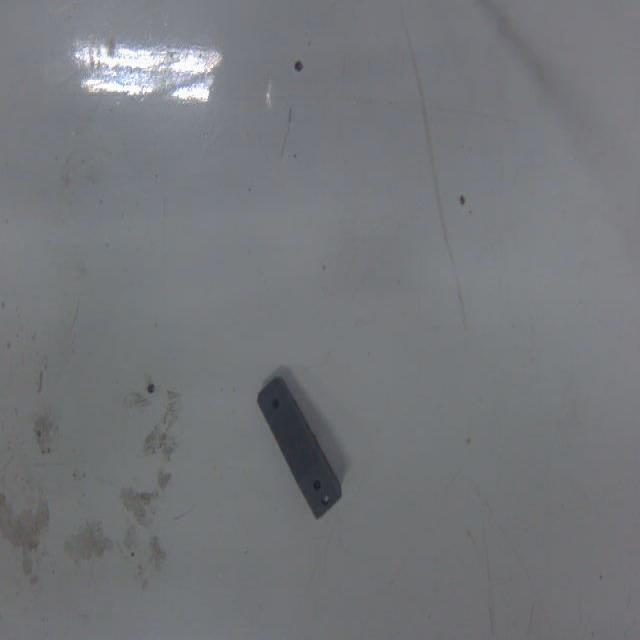grey: (256, 374, 343, 520)
head: (270, 397, 282, 410)
